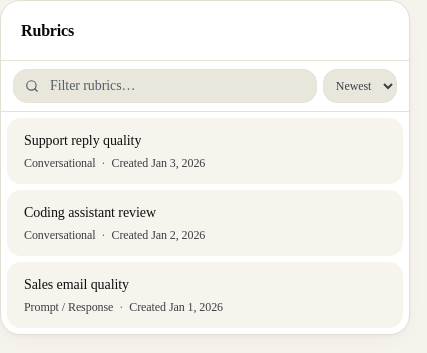
RubricsPanel – name filter › shows only matching rubrics when the user types in the search input
The width and height of the screenshot is (427, 353).
In the field named "filter rubrics by name": (165, 86) [13,69,317,103], type "sales"
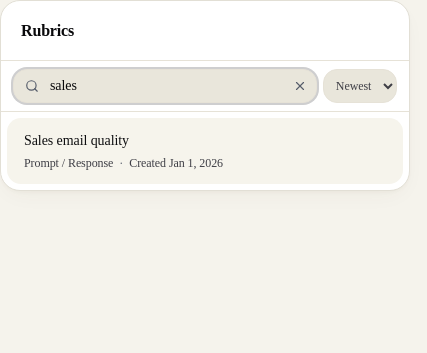
Expected: the text "Sales email quality" is shown, [24,131,129,151]
Expected: the button "Support reply quality" is gone
Expected: the button "Coding assistant review" is gone
